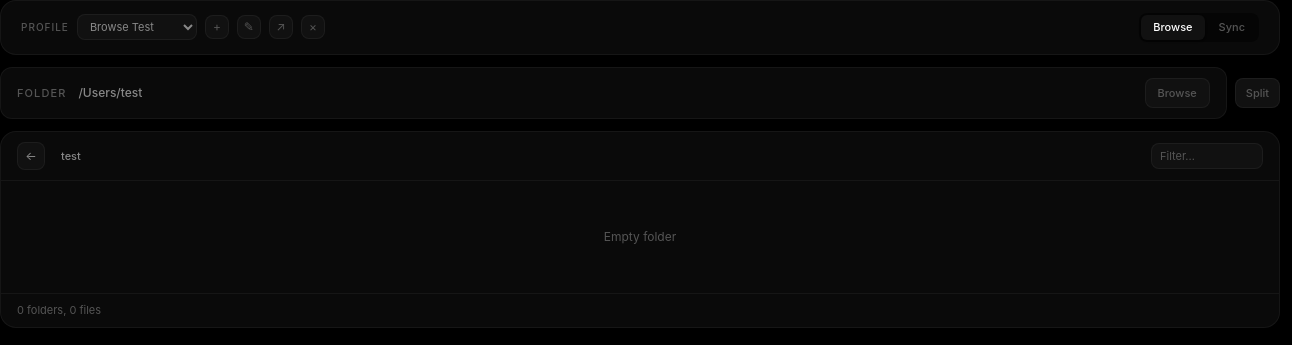
FileManager › switches from Browse to Sync mode
The width and height of the screenshot is (1292, 345).
Check: the text "/Users/test" is shown, box x1=78 y1=85 x2=142 y2=100
Click the button "Sync": (1232, 27) x1=1207 y1=15 x2=1257 y2=40
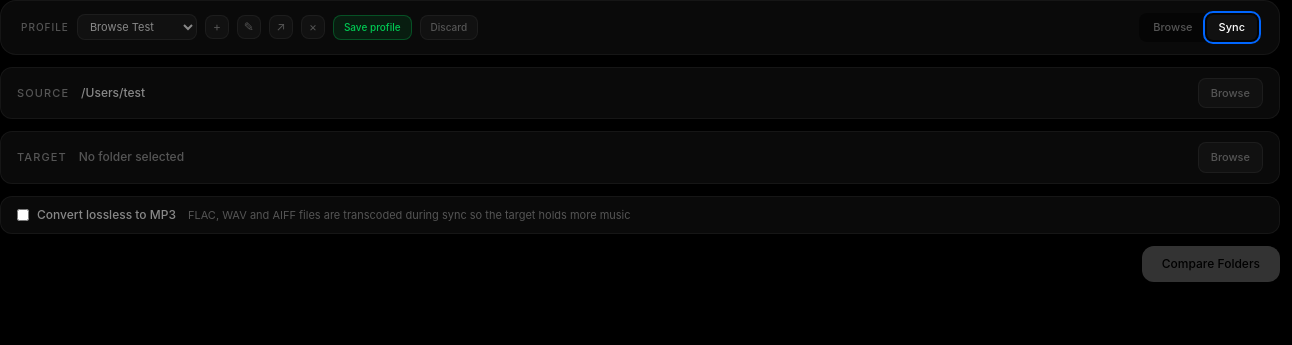
Check: the text "Source" is shown, box x1=17 y1=84 x2=69 y2=101
Check: the text "Target" is shown, box x1=17 y1=149 x2=67 y2=166
